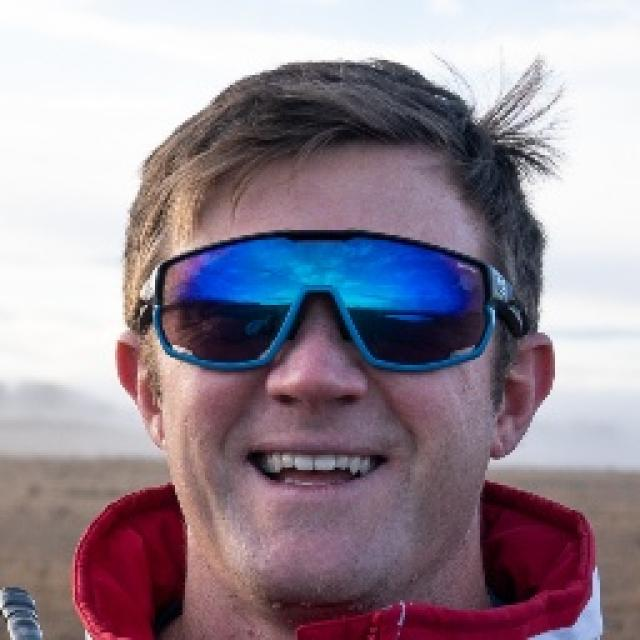glasses: (128, 231, 538, 380)
